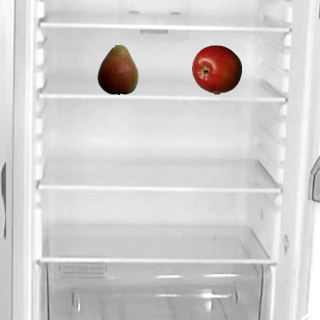Apple Braeburn: (191, 44, 241, 94)
Pear Forelle: (92, 44, 142, 94)
